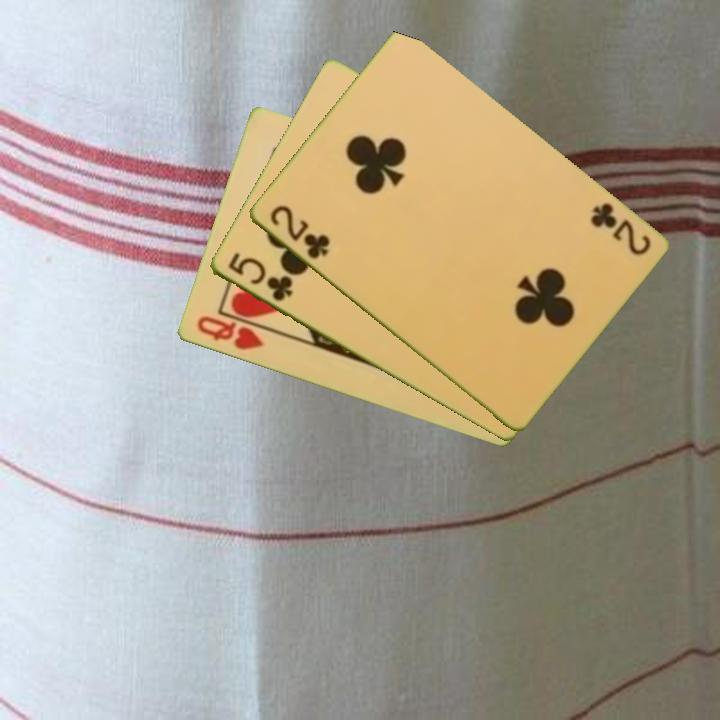2c: (265, 201, 332, 262), (586, 199, 653, 259)
5c: (223, 249, 295, 305)
Qh: (193, 312, 266, 354)
